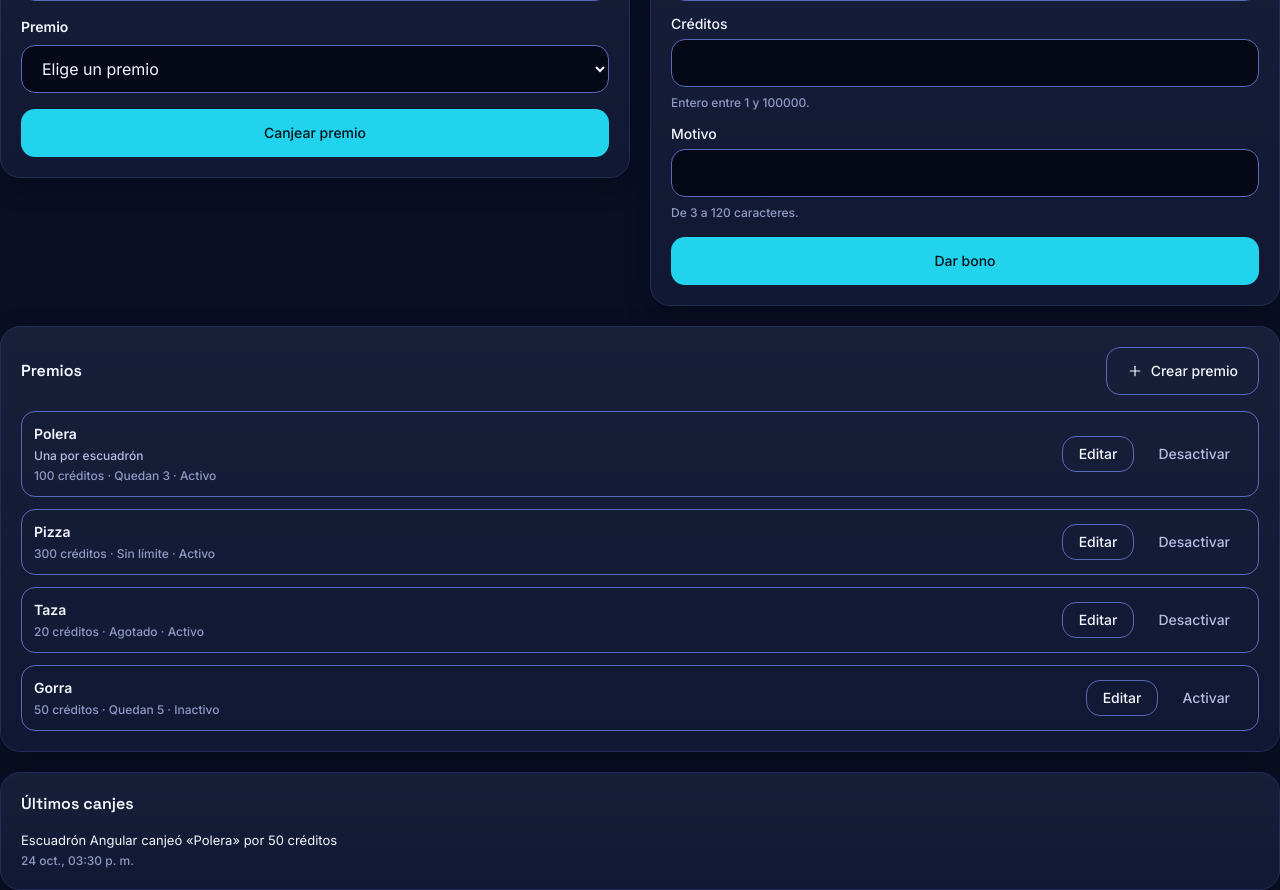
Test: SquadCreditsAdminView › prizes › opens an unlimited prize with an empty stock, and cancels without saving
(page scrolled)
Click the button "Editar" in the row of "Pizza" at (1098, 542), box [1062,524,1134,560]
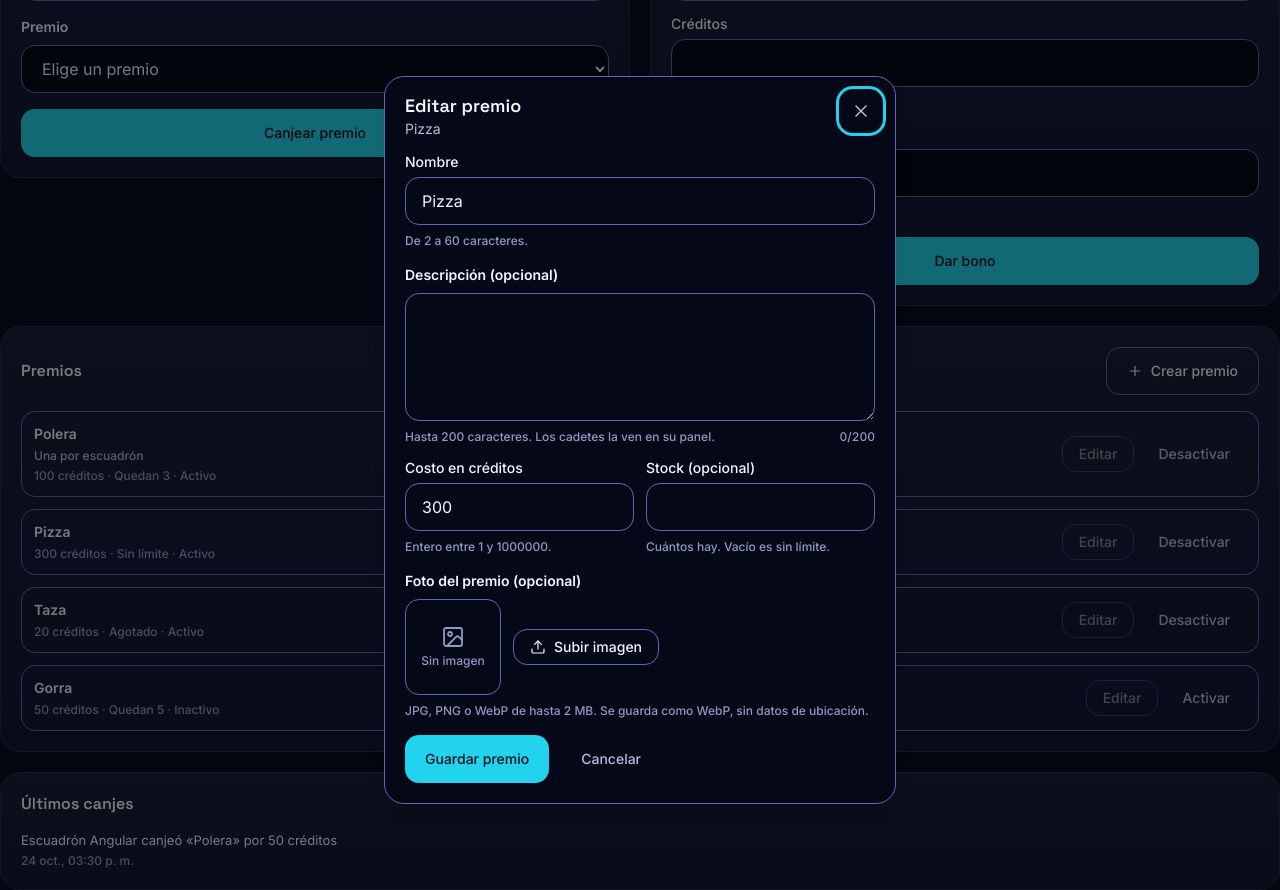
Check: the field labelled "Stock (opcional)" is empty, box [646,483,875,531]
Click the button "Cancelar" at (611, 759), box [561,735,661,783]
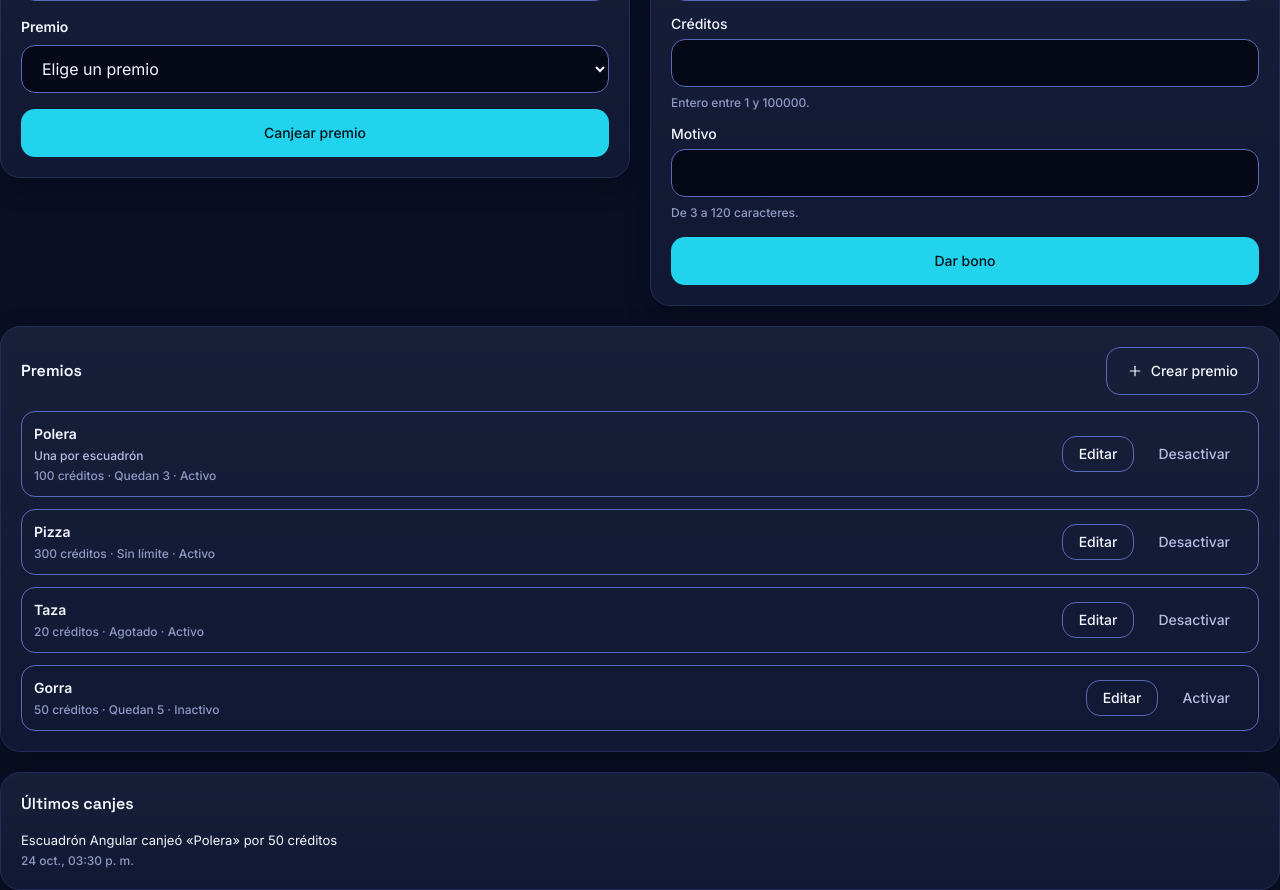
Check: the heading "Editar premio" is gone
